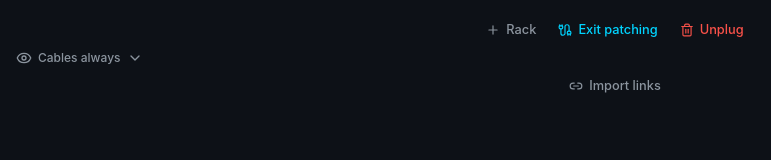
Test: RackToolbarActions cable selection › unplugs the selected cable
The image size is (771, 160).
Click the button "Unplug".
click(712, 30)  # box [669, 16, 755, 44]
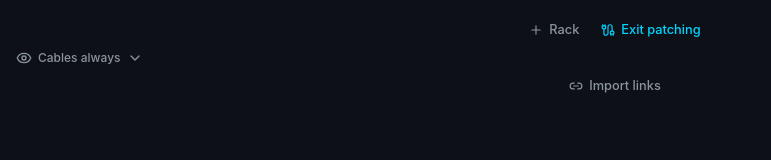
Expected: the button "Unplug" is gone
